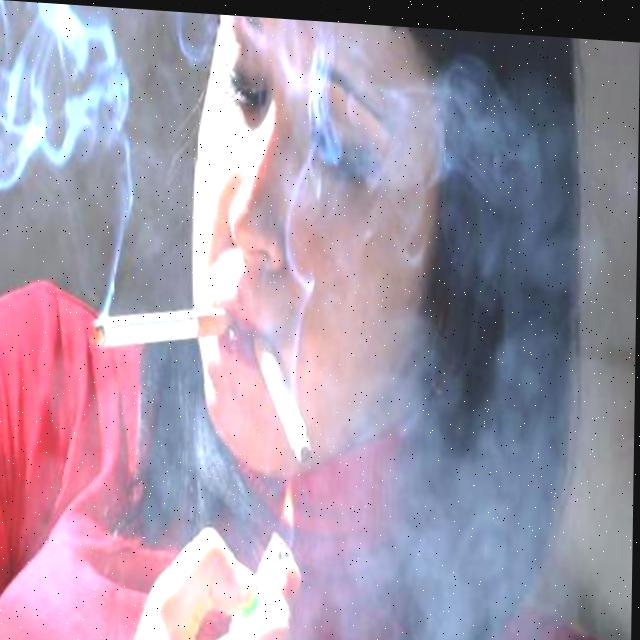cigarette: (87, 295, 234, 356), (253, 329, 314, 462)
